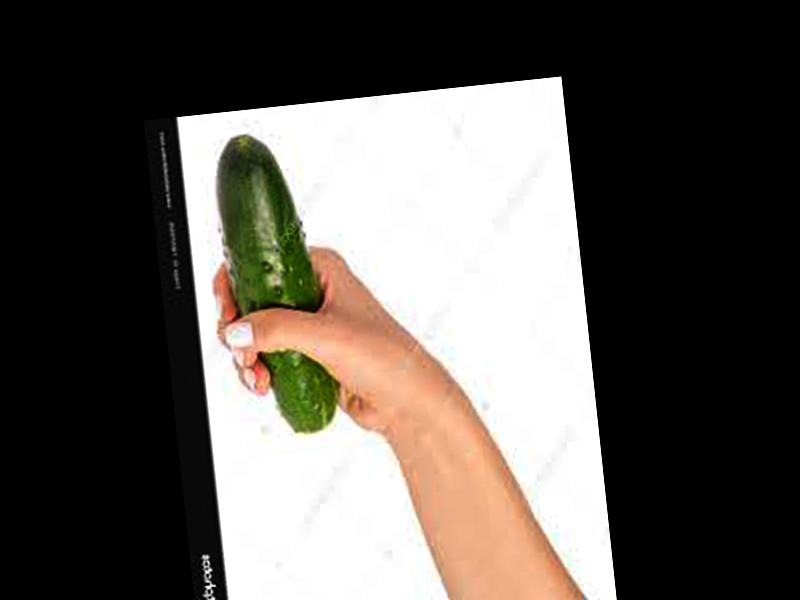Cucumber: (210, 127, 342, 438)
